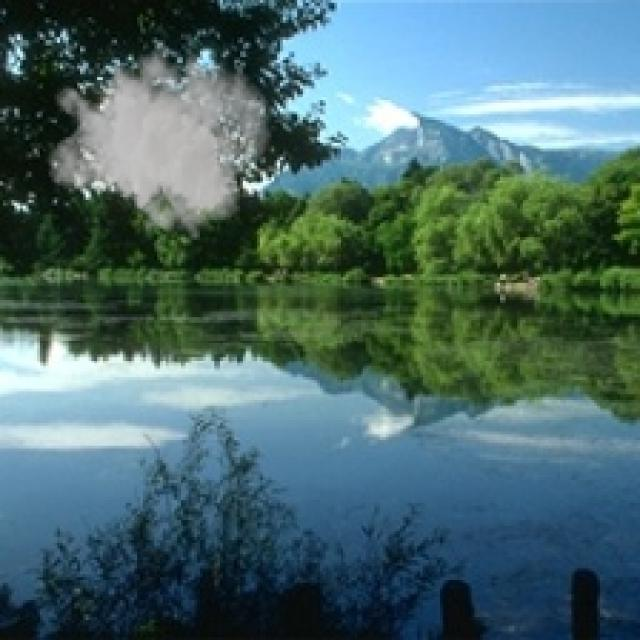smoke: (46, 29, 271, 240)
